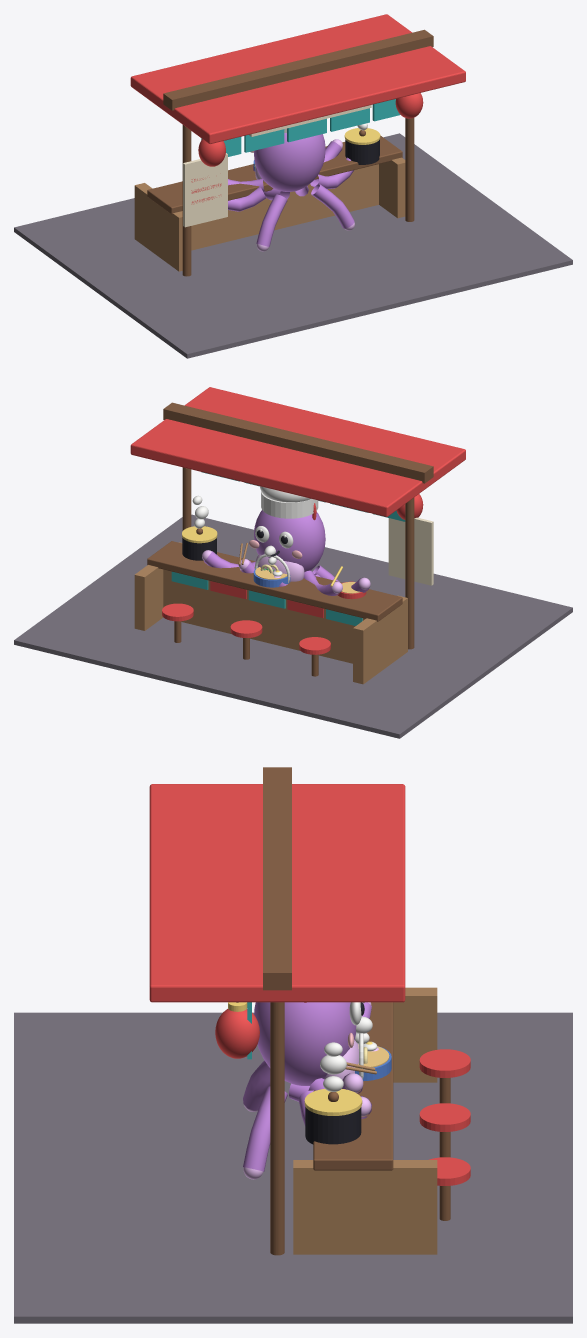
Rendered from octopus_ramen.glb.
3 renders of one model, top to bottom at view 1: azimuth 30°, elevation 25°; view 2: azimuth 150°, elevation 25°; view 3: azimuth 270°, elevation 25°, orthographic. The views are drawn at different scales.
Visible parts, largest first — view 1: Floor, Roof, CounterFront, RoofRidge, OctoHead, CounterTop, CounterSideL, Menu, CounterSideR, Post2.6, Post-2.6, TentL3 (+12 smaller); view 2: Floor, Roof, CounterFront, CounterTop, RoofRidge, CounterSideL, OctoHead, Menu, CounterSideR, Post-2.6, HatBand, Post2.6 (+6 smaller); view 3: Floor, Roof, CounterSideR, RoofRidge, CounterTop, OctoHead, Post2.6, CounterSideL, Lantern2.3, Pot, TentR3, StoolSeat0 (+4 smaller).
Part boxes in pixels (x1,y1,x2,y2): Floor: [14, 133, 572, 358]; Roof: [130, 14, 465, 143]; CounterFront: [191, 164, 378, 250]; RoofRidge: [163, 29, 433, 110]; OctoHead: [254, 133, 325, 191]; CounterTop: [147, 135, 402, 214]; CounterSideL: [134, 183, 182, 271]; Menu: [183, 153, 227, 227]; CounterSideR: [379, 157, 405, 218]; Post2.6: [405, 118, 414, 221]; Post-2.6: [182, 125, 191, 276]; TentL3: [256, 194, 287, 246]; Floor: [14, 514, 572, 738]; Roof: [130, 387, 465, 516]; CounterFront: [163, 569, 364, 663]; CounterTop: [147, 541, 402, 621]; RoofRidge: [163, 402, 433, 483]; CounterSideL: [353, 595, 407, 684]; OctoHead: [254, 510, 325, 571]; Menu: [388, 517, 433, 585]; CounterSideR: [134, 542, 182, 630]; Post-2.6: [405, 497, 414, 649]; HatBand: [261, 491, 318, 518]; Post2.6: [182, 467, 191, 530]; Floor: [14, 1012, 572, 1323]; Roof: [149, 784, 405, 1002]; CounterSideR: [293, 1160, 437, 1254]; RoofRidge: [263, 767, 291, 990]; CounterTop: [313, 1002, 393, 1170]; OctoHead: [254, 1002, 356, 1085]; Post2.6: [270, 1002, 284, 1255]; CounterSideL: [393, 987, 437, 1082]; Lantern2.3: [215, 1009, 259, 1058]; Pot: [305, 1107, 361, 1144]; TentR3: [243, 1086, 287, 1171]; StoolSeat0: [419, 1103, 470, 1131].
Size of the model in its own units: 9 by 4.17 by 7.
